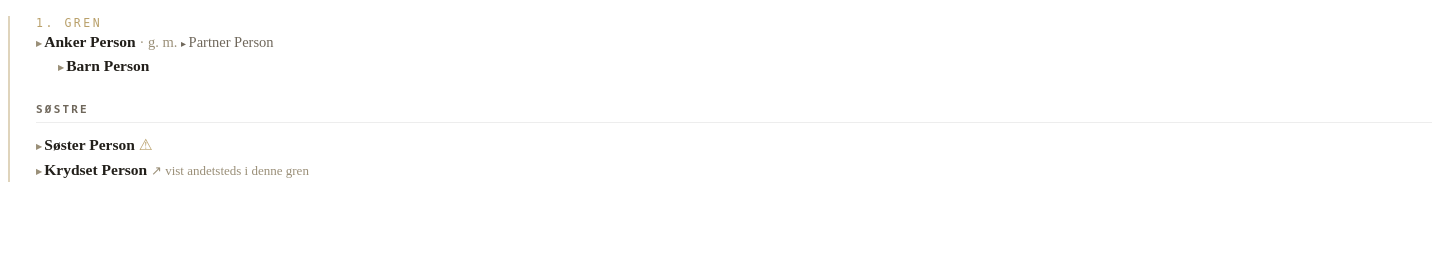
mangler narrativ (tom streng) viser en dæmpet placeholder, ikke en tom boks
This screenshot has width=1440, height=267.
Click the text "Anker Person" at [90, 42], box [44,33,136,50]
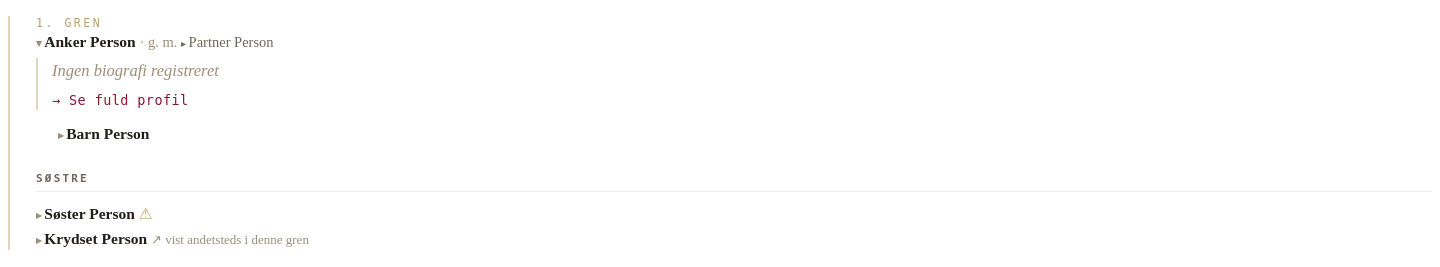
Expected: the text "Ingen biografi registreret" is shown, [52,61,219,80]
